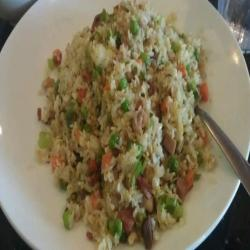rice: (66, 49, 187, 198)
